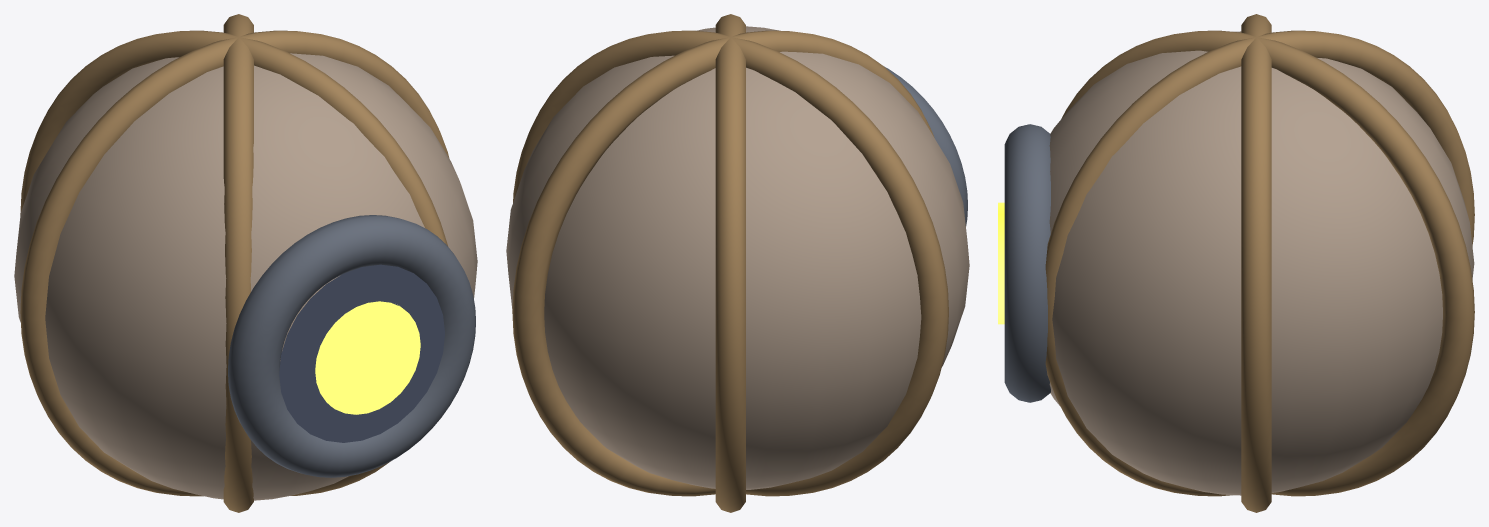
The model's file is drone_zeus_6.glb.
3 renders of one model, left to right at view 1: azimuth 30°, elevation 25°; view 2: azimuth 150°, elevation 25°; view 3: azimuth 270°, elevation 25°, orthographic.
Parts seen in each view (by area): view 1: drone_zeus_6; view 2: drone_zeus_6; view 3: drone_zeus_6.
Boxes of the visible parts, box(x1,y1,x2,y2) form: drone_zeus_6: box(14, 14, 477, 512); drone_zeus_6: box(506, 14, 969, 512); drone_zeus_6: box(998, 14, 1474, 512).
Bounding box in the file's own units: 17.2 × 17.2 × 16.42.
